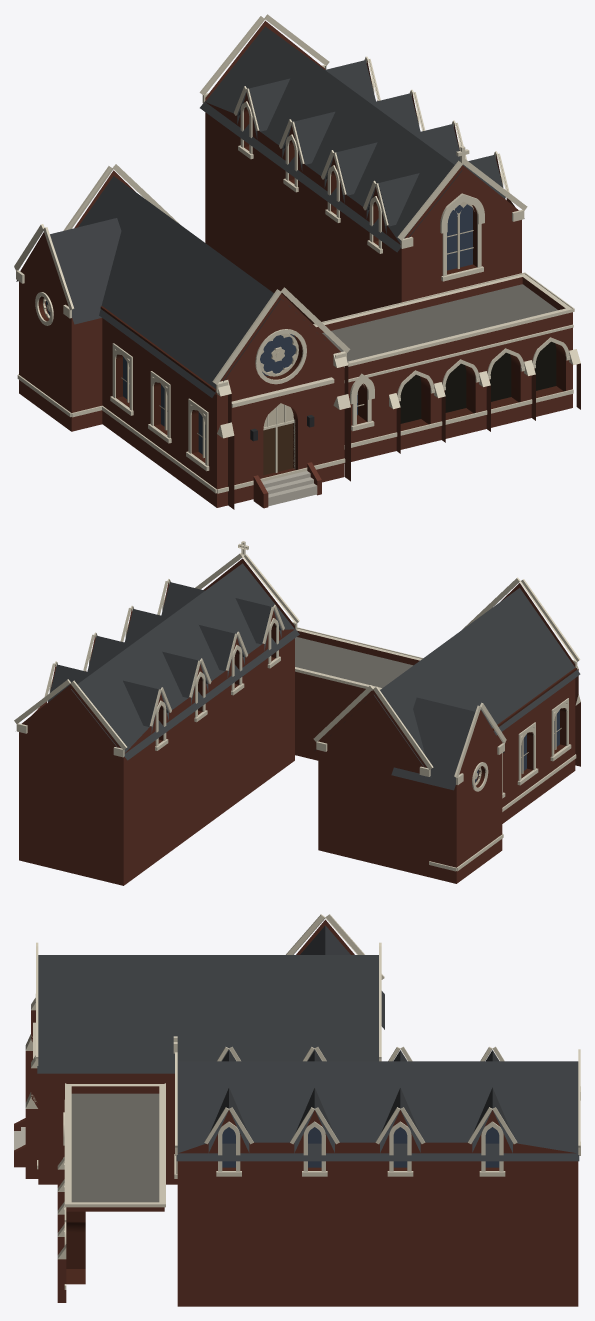
File: ch-pulaski-heights-methodist-chapel-1961.glb
3 views of the same model, one above another, from view 1: azimuth 30°, elevation 25°; view 2: azimuth 150°, elevation 25°; view 3: azimuth 270°, elevation 25° (orthographic). The views are drawn at different scales.
Parts seen in each view (by area): view 1: ch_brick, ch_roof, ch_trim, ch_roof2, ch_brick2, ch_shadow, ch_stain, ch_trc, ch_door, ch_conc; view 2: ch_brick, ch_roof, ch_trim, ch_roof2, ch_brick2; view 3: ch_roof, ch_brick, ch_trim, ch_roof2, ch_brick2, ch_stain.
Boxes of the visible parts, x1=… form: ch_brick: x1=19, y1=20, x2=580, y2=509; ch_roof: x1=16, y1=26, x2=524, y2=397; ch_trim: x1=14, y1=14, x2=580, y2=493; ch_roof2: x1=322, y1=284, x2=557, y2=361; ch_brick2: x1=38, y1=107, x2=565, y2=477; ch_shadow: x1=399, y1=341, x2=556, y2=423; ch_stain: x1=46, y1=105, x2=472, y2=455; ch_trc: x1=43, y1=201, x2=474, y2=457; ch_door: x1=263, y1=423, x2=293, y2=475; ch_conc: x1=262, y1=471, x2=317, y2=506; ch_brick: x1=19, y1=558, x2=580, y2=885; ch_roof: x1=47, y1=563, x2=580, y2=790; ch_trim: x1=14, y1=541, x2=580, y2=871; ch_roof2: x1=295, y1=637, x2=413, y2=687; ch_brick2: x1=158, y1=623, x2=576, y2=787; ch_roof: x1=37, y1=925, x2=579, y2=1161; ch_brick: x1=14, y1=919, x2=578, y2=1306; ch_trim: x1=25, y1=914, x2=580, y2=1289; ch_roof2: x1=71, y1=1093, x2=159, y2=1202; ch_brick2: x1=66, y1=1167, x2=499, y2=1284; ch_stain: x1=222, y1=1127, x2=499, y2=1167.
Bounding box in the file's own units: 22.61 × 12.35 × 26.47.
